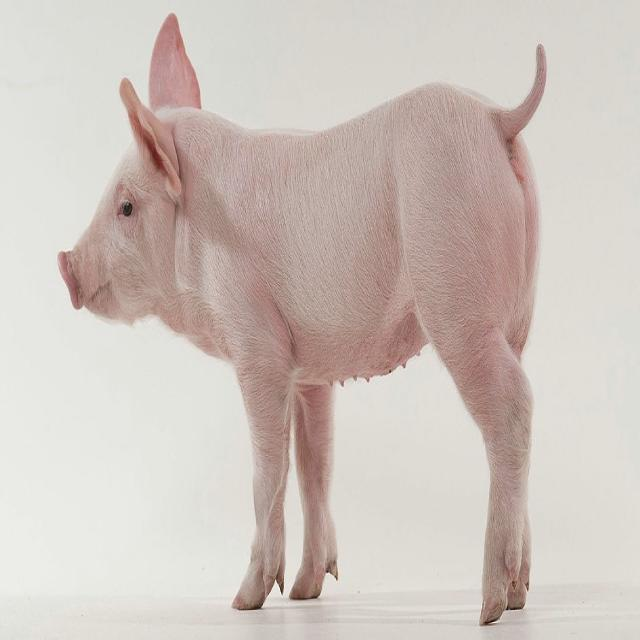pig: (58, 14, 546, 623)
